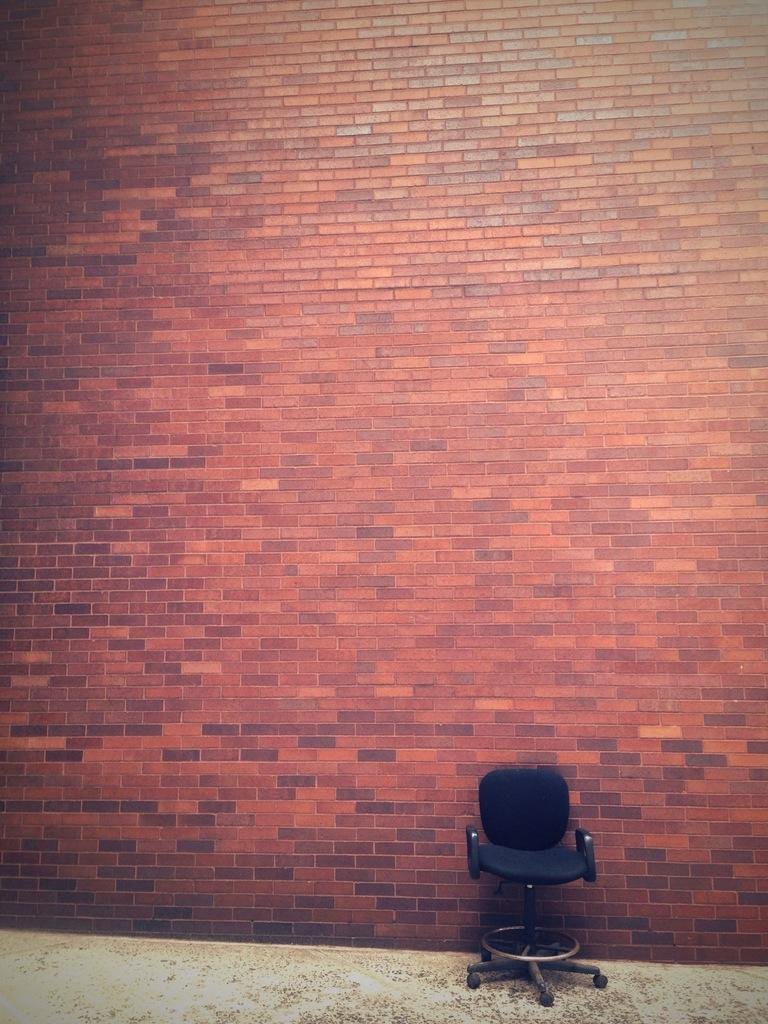Chair: (469, 740, 610, 986)
